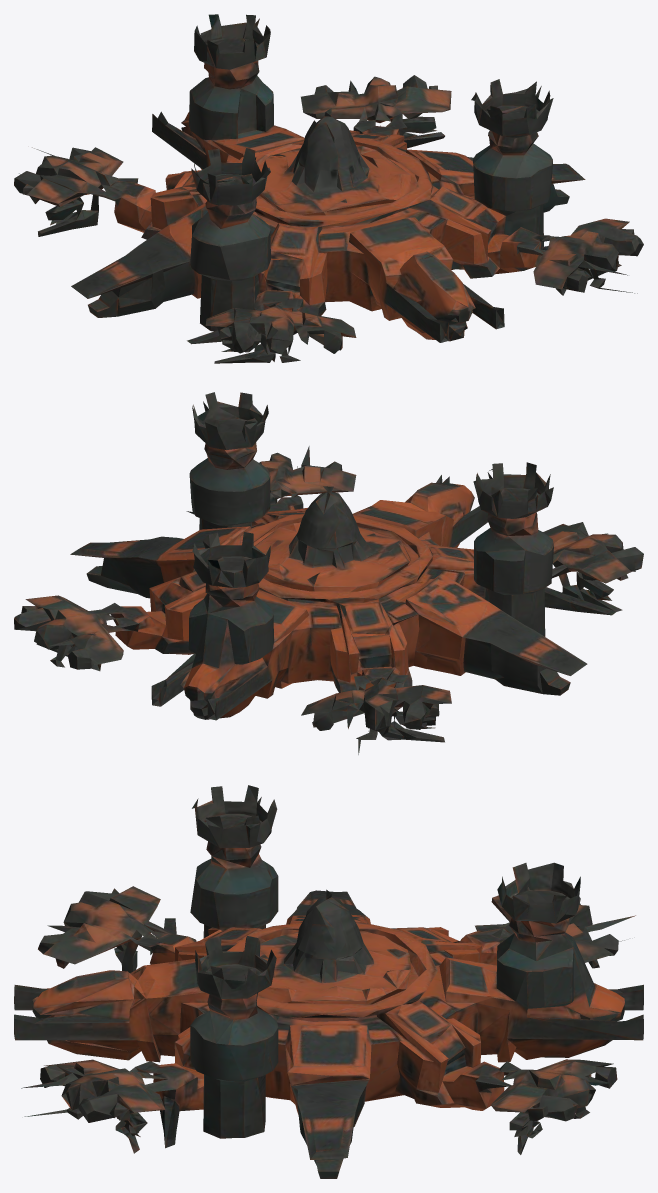
The model's file is nation-aa-fortress.glb.
The picture shows the model from 3 angles, top to bottom: view 1: azimuth 30°, elevation 25°; view 2: azimuth 150°, elevation 25°; view 3: azimuth 270°, elevation 25°; orthographic projection. The views are drawn at different scales.
Size of the model in its own units: 1.9 by 0.5993 by 1.9.
Materials: 1 (1 with a texture image).
